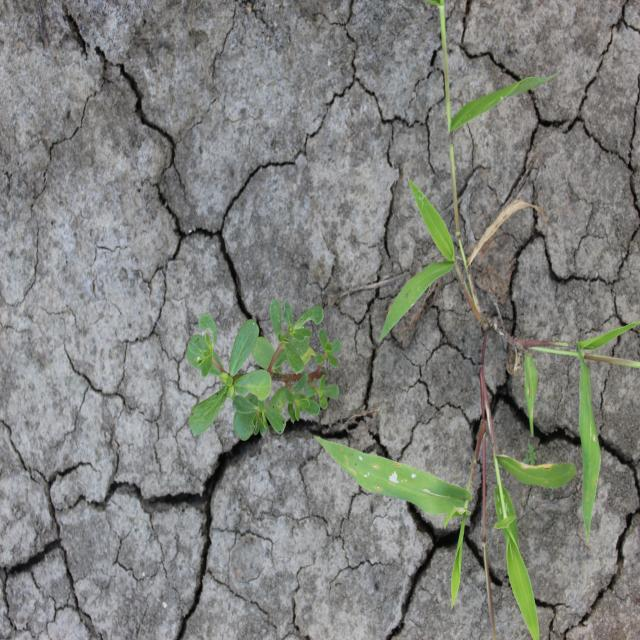Purslane: (186, 298, 341, 442)
